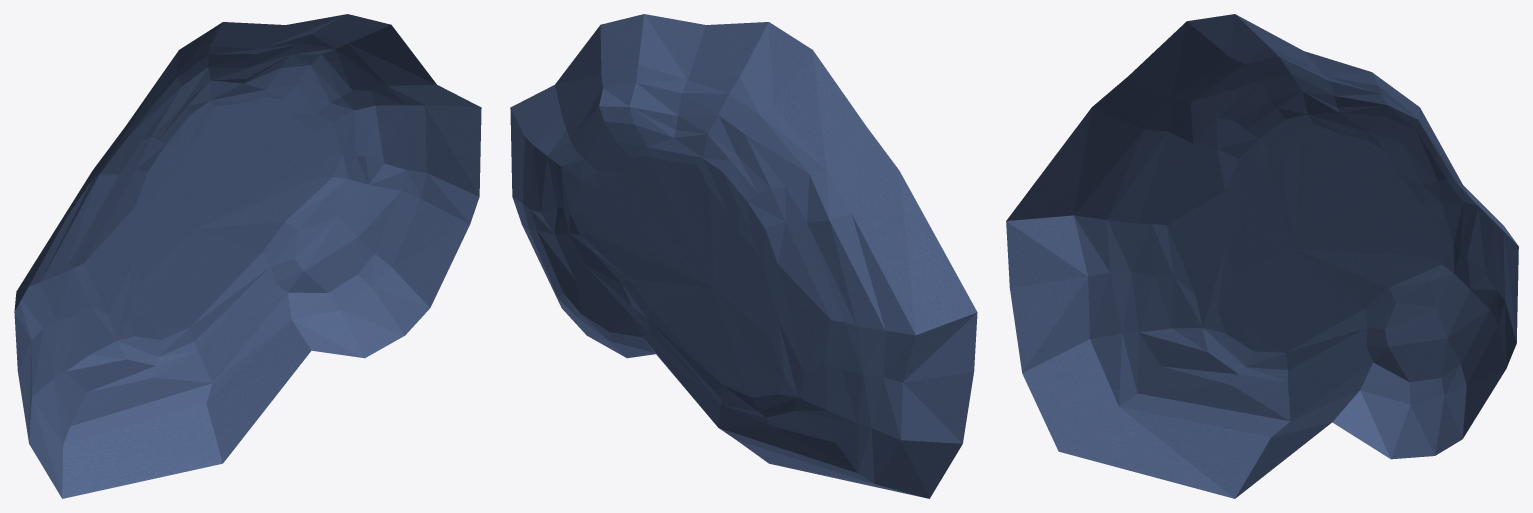
The model's file is blue_land_2.FBX.
3 views of the same model, side by side, from view 1: azimuth 30°, elevation 25°; view 2: azimuth 150°, elevation 25°; view 3: azimuth 330°, elevation 25° (orthographic). The views are drawn at different scales.
Visible parts, largest first — view 1: Icosphere.007; view 2: Icosphere.007; view 3: Icosphere.007.
Part boxes in pixels (x1=…): Icosphere.007: x1=14, y1=14, x2=481, y2=498; Icosphere.007: x1=510, y1=14, x2=977, y2=498; Icosphere.007: x1=1006, y1=14, x2=1518, y2=498.
Bounding box in the file's own units: 2747 × 2482 × 410.
